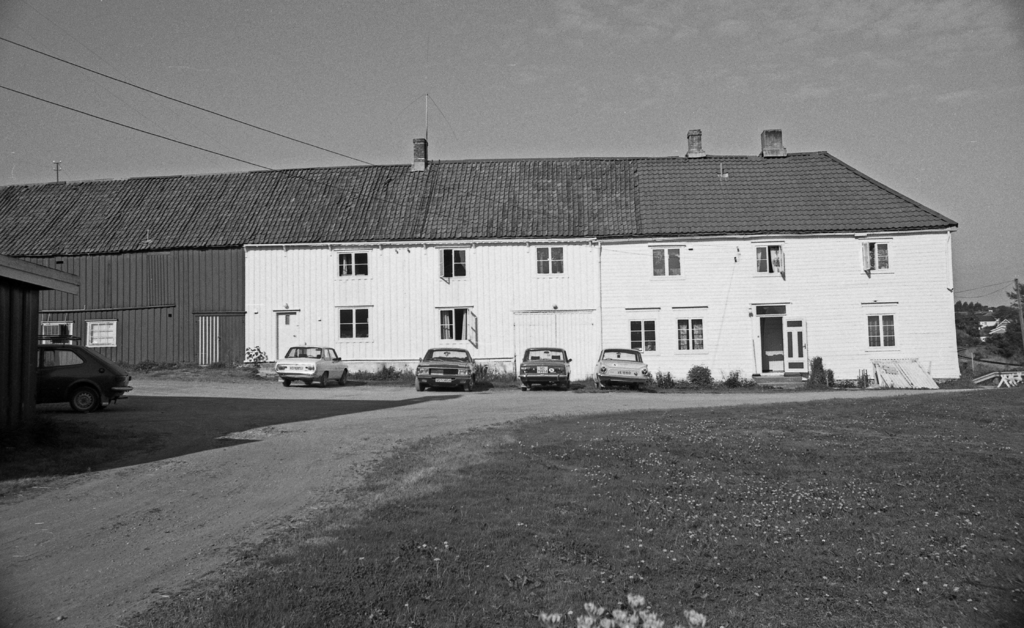cars: (37, 333, 134, 412), (513, 347, 577, 394), (278, 343, 346, 387), (418, 343, 481, 390), (593, 345, 651, 389)
